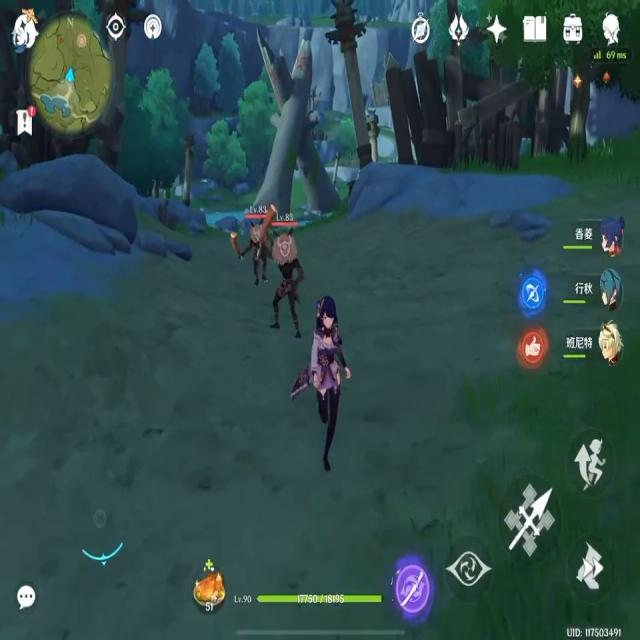genshin-hilichurls: (272, 232, 302, 336), (242, 224, 269, 292)
